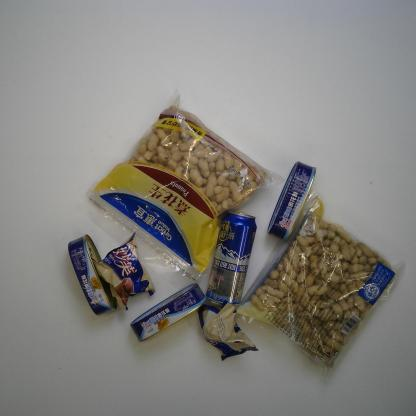Alcohol: (205, 210, 258, 308)
Canned Food: (130, 283, 207, 342), (68, 234, 118, 316), (267, 160, 316, 242)
Dessert: (91, 231, 156, 312), (198, 299, 260, 361)
Dried Food: (78, 93, 288, 292), (234, 189, 406, 381)
